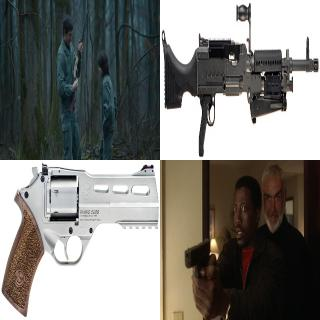gun: (2, 160, 158, 316), (161, 8, 319, 154), (183, 236, 217, 318), (69, 5, 89, 115)
